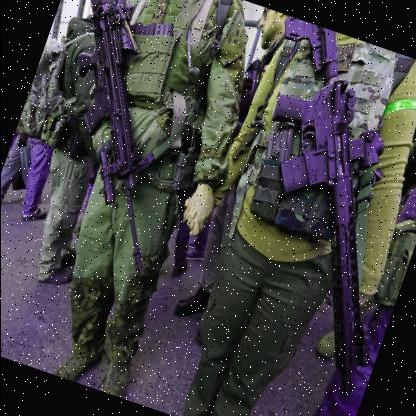rifle: (177, 19, 416, 394), (0, 0, 236, 276)
